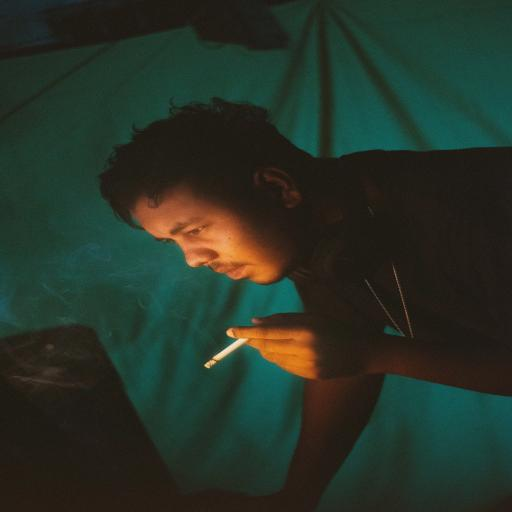terdeteksi pegang rokok: (186, 292, 300, 405)
